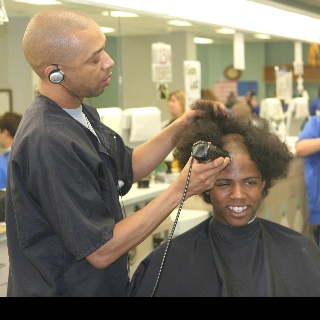without_mask: (209, 155, 262, 225), (64, 27, 114, 96)
